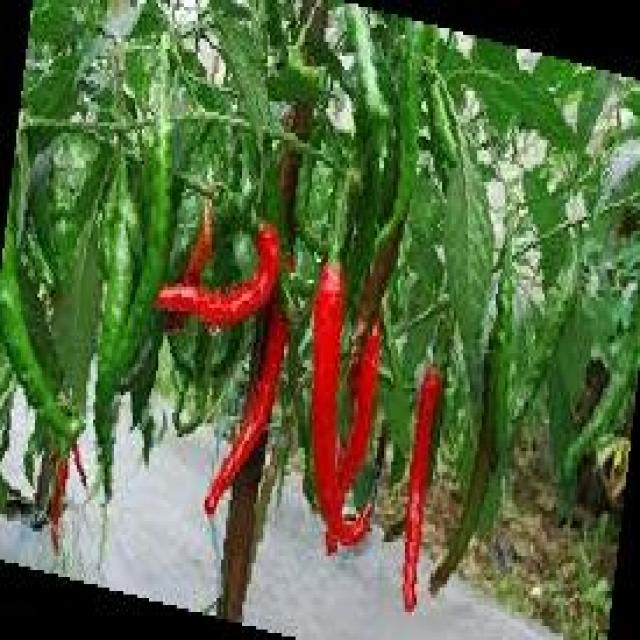Mosaic_virus: (290, 133, 388, 584)
